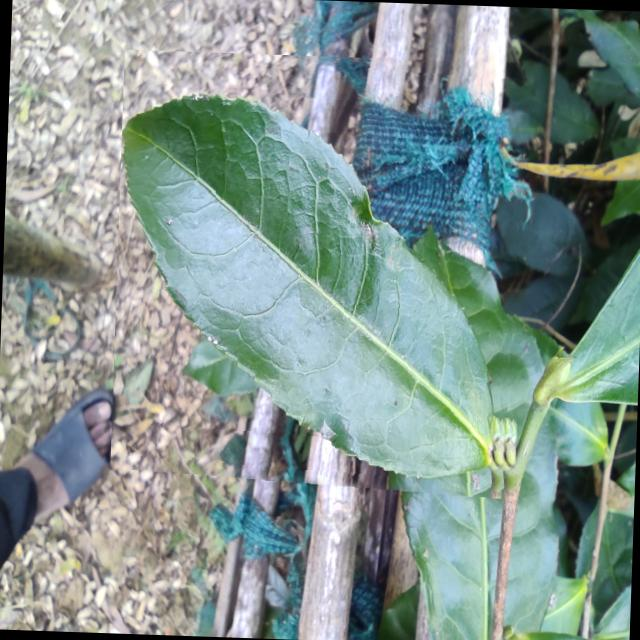Category D(7+ days, Not for Tea): (108, 49, 528, 499)
